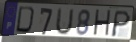7: (40, 7, 53, 36)
8: (76, 9, 91, 38)
D: (15, 6, 38, 35)
H: (92, 9, 112, 38)
P: (109, 10, 132, 39)
U: (54, 7, 75, 37)
